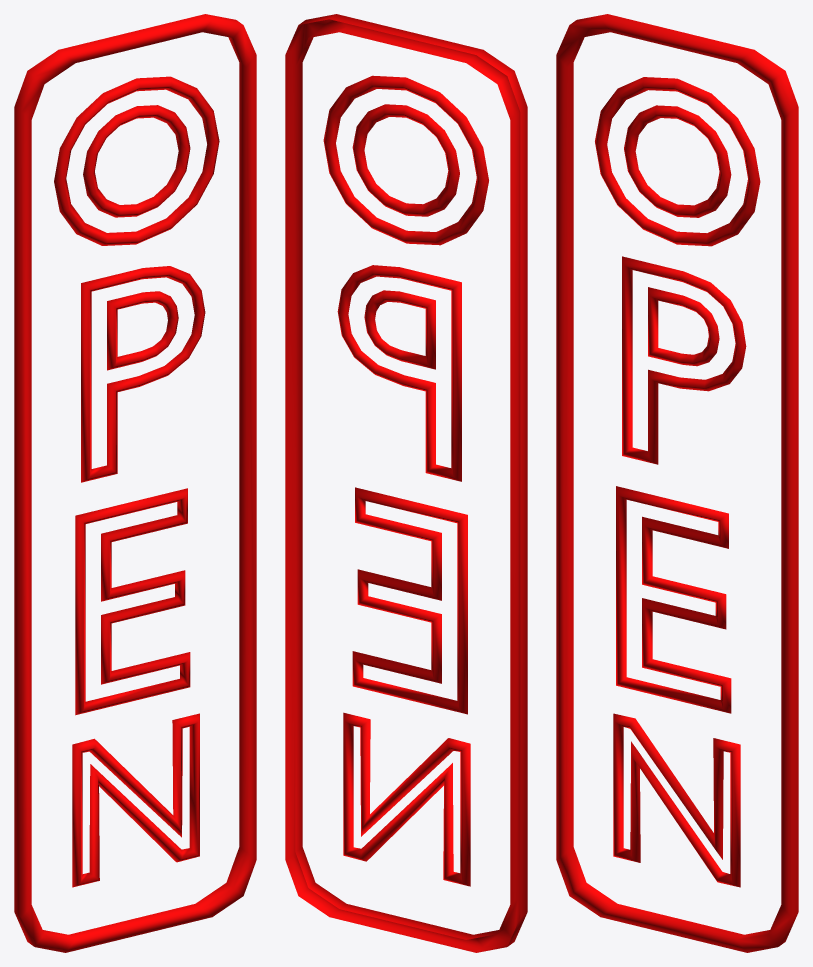
File: Sign5.fbx
3 renders of one model, left to right at view 1: azimuth 30°, elevation 25°; view 2: azimuth 150°, elevation 25°; view 3: azimuth 330°, elevation 25°, orthographic.
Visible parts, largest first — view 1: Cube.002; view 2: Cube.002; view 3: Cube.002.
Boxes of the visible parts, x1,y1,x2,y2 form: Cube.002: (14,14,256,952); Cube.002: (285,14,527,952); Cube.002: (556,14,798,952).
Bounding box in the file's own units: 9.76 × 35.65 × 0.5544.
